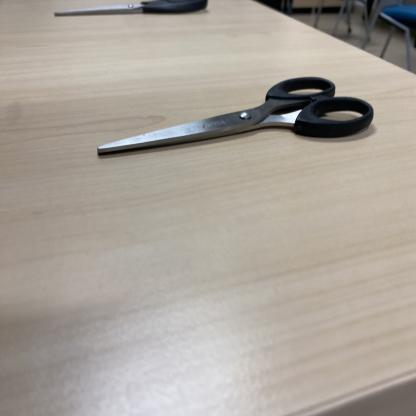scissors: (97, 75, 376, 160), (53, 0, 208, 19)
